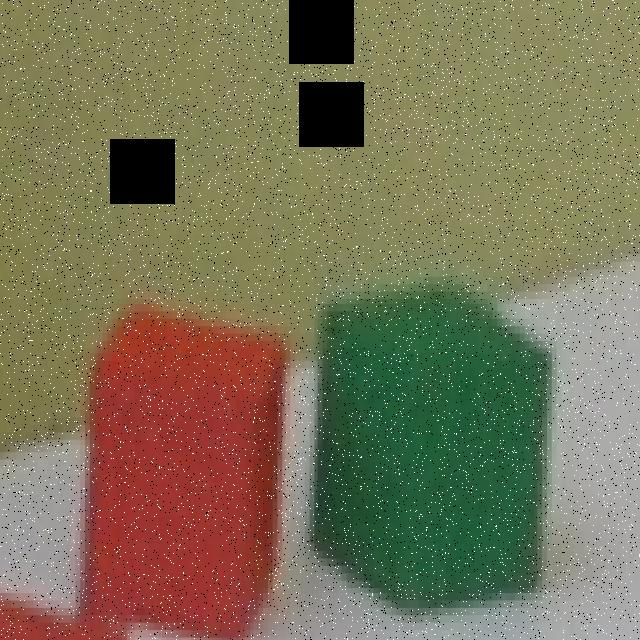green cube: (309, 282, 555, 609)
red cube: (93, 299, 286, 639)
